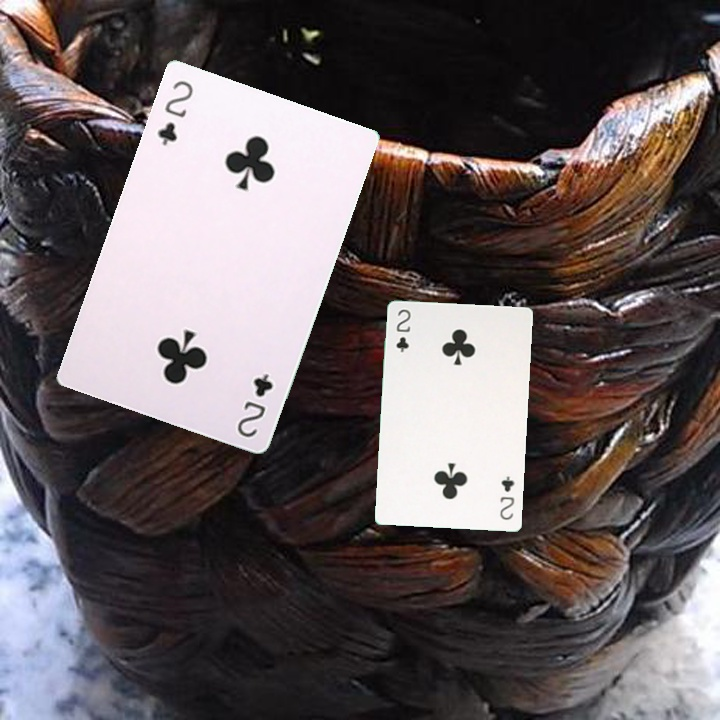2c: (153, 76, 196, 148), (233, 369, 276, 441), (496, 472, 517, 522), (392, 305, 413, 355)
